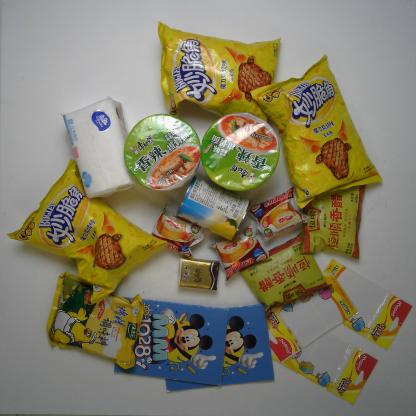Canned Food: (174, 173, 253, 242)
Dessert: (205, 219, 273, 284), (245, 184, 312, 248), (146, 202, 208, 262)
Instant Noodles: (199, 110, 281, 193), (122, 111, 204, 193)
Puffed Food: (5, 156, 172, 306), (248, 53, 385, 211), (156, 18, 283, 127)
Seasoner: (44, 270, 146, 371), (238, 229, 335, 321), (298, 180, 368, 260)
Stationery: (112, 296, 230, 388), (163, 302, 276, 395), (260, 266, 361, 365), (322, 256, 414, 353), (270, 326, 379, 407)
Tissue: (59, 94, 139, 204), (176, 256, 222, 292)
